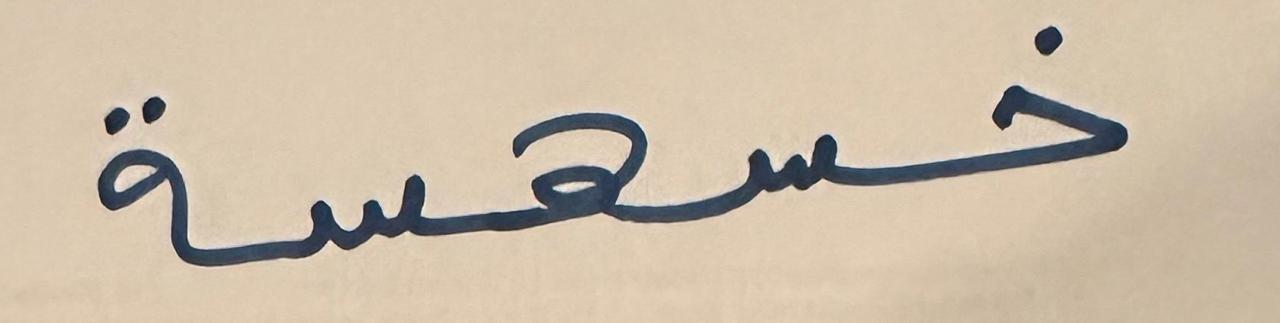jeem: (465, 16, 674, 283)
lam: (882, 7, 1182, 242)
sheen: (678, 13, 876, 279), (248, 56, 457, 303)
thal: (61, 20, 241, 310)
